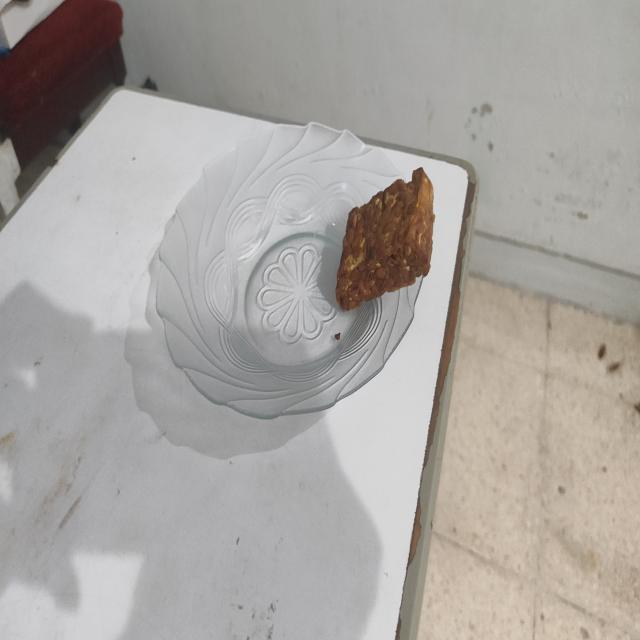tempe_goreng: (336, 168, 434, 310)
